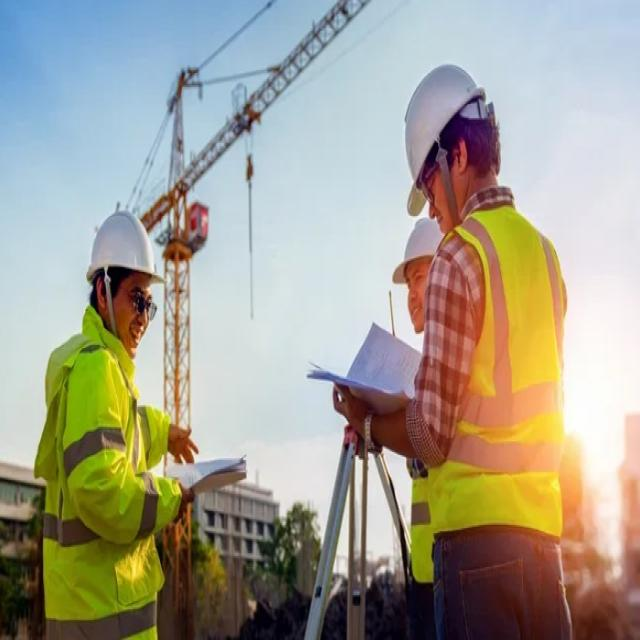helmet: (402, 62, 488, 218), (85, 205, 166, 287), (390, 214, 450, 283)
vest: (427, 207, 566, 540), (42, 329, 164, 637)
